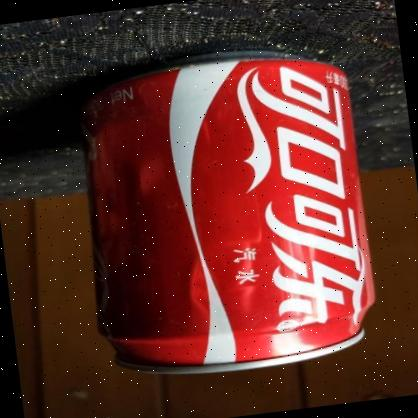can: (71, 37, 387, 386)
